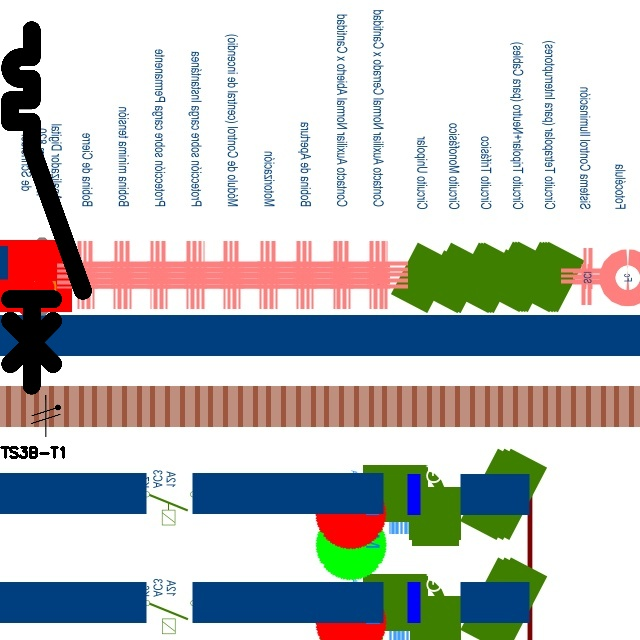interruptor_termomagnetico: (1, 21, 92, 395)
